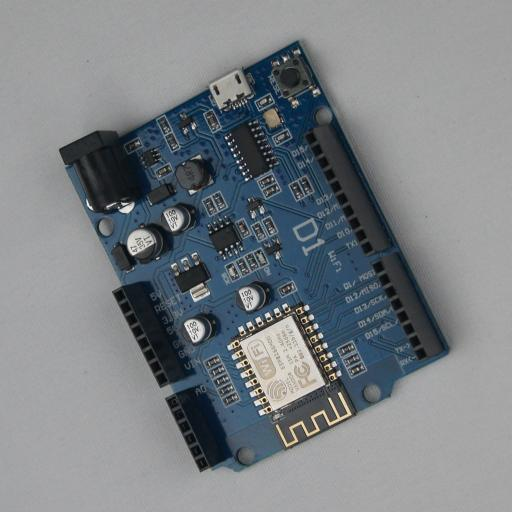Arduino Uno WiFi Shield: (59, 40, 452, 472)
